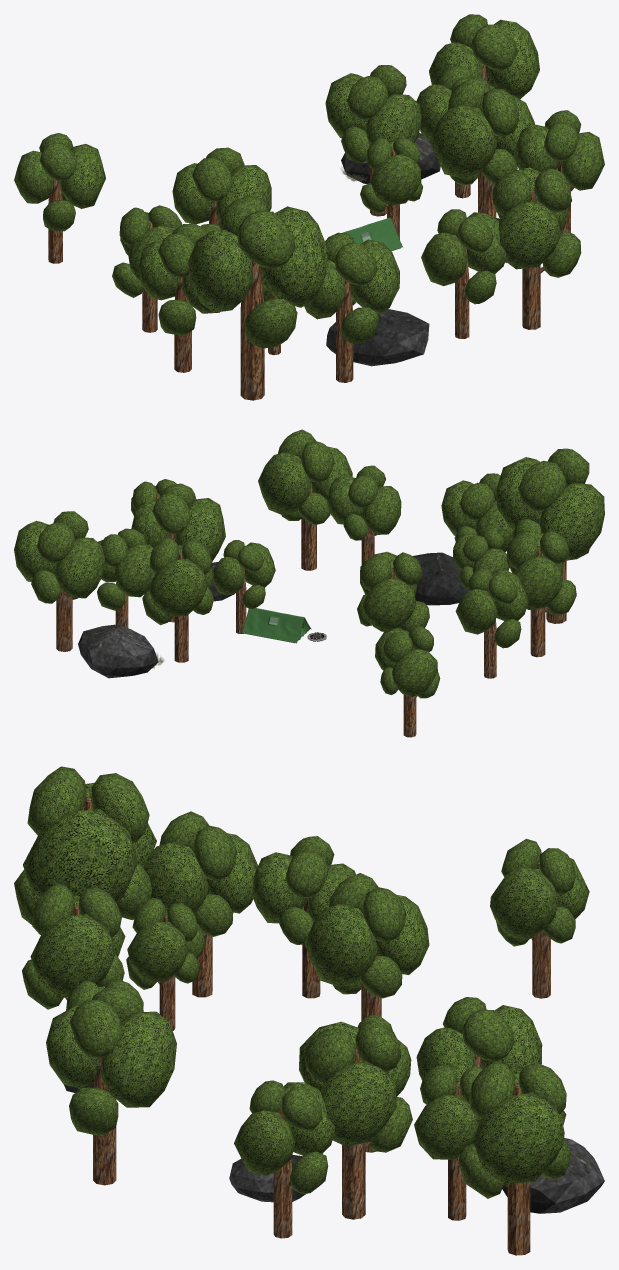
3 renders of one model, top to bottom at view 1: azimuth 30°, elevation 25°; view 2: azimuth 150°, elevation 25°; view 3: azimuth 270°, elevation 25°, orthographic. The views are drawn at different scales.
Visible parts, largest first — view 1: FOLIAGE, BRANCH 1, BOULDER_LOW.001, Tent; view 2: FOLIAGE, BRANCH 1, BOULDER_LOW.001, Tent; view 3: FOLIAGE, BRANCH 1, BOULDER_LOW.001.
Part boxes in pixels (x1,y1,x2,y2): FOLIAGE: (14,14,604,348); BRANCH 1: (48,64,570,400); BOULDER_LOW.001: (326,133,506,366); Tent: (342,217,402,250); FOLIAGE: (14,429,604,698); BRANCH 1: (56,480,566,737); BOULDER_LOW.001: (78,552,468,678); Tent: (242,608,311,643); FOLIAGE: (14,766,589,1198); BRANCH 1: (65,797,550,1255); BOULDER_LOW.001: (64,1083,604,1213).
Bounding box in the file's own units: 24.77 × 9.02 × 20.12.
Materials: 12 (8 with a texture image).
